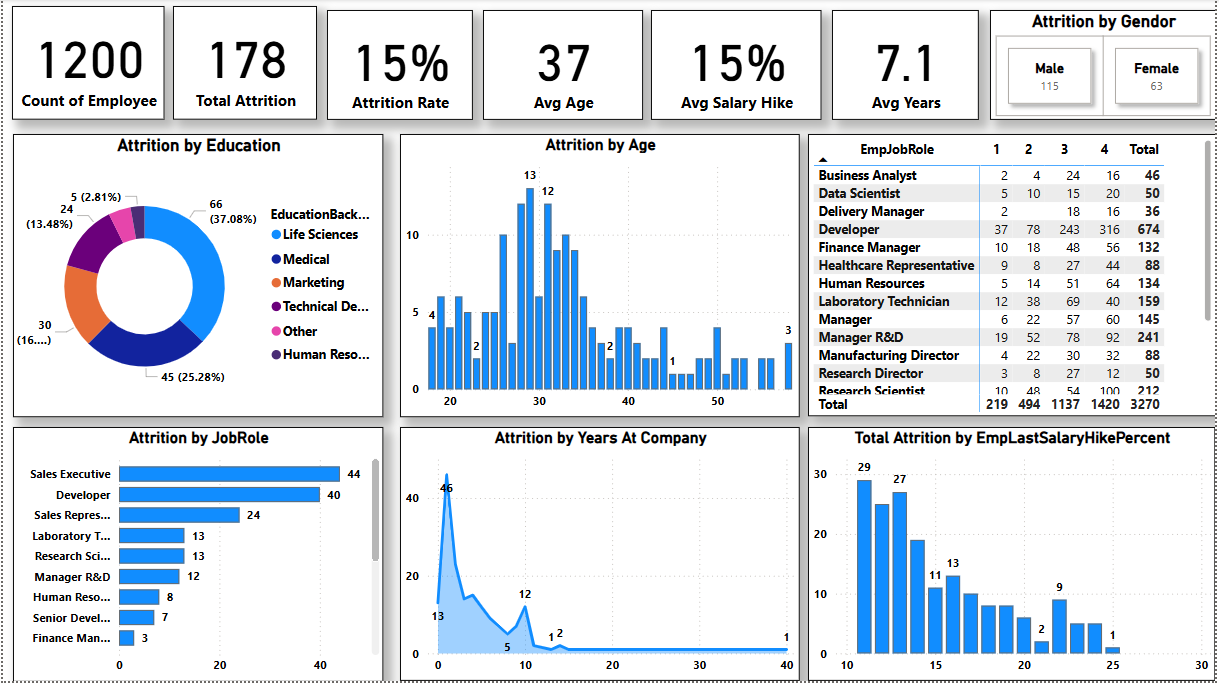

The dashboard page shown, as its layout file describes it:
{"tool":"powerbi","page":{"name":"Attrition Dashboard","canvas":[1280,720],"ordinal":1},"visuals":[{"type":"card","fields":{"Values":["INX_Future_Inc_Employee_Perform.Total no of employee"]},"box":[10,7.5,161.1,119.9],"z":0},{"type":"card","fields":{"Values":["INX_Future_Inc_Employee_Perform.Total Atrrition"]},"box":[179.8,7.5,152.4,119.9],"z":1000},{"type":"card","fields":{"Values":["INX_Future_Inc_Employee_Perform.Attrition Rate"]},"box":[342.2,11.2,153.6,116.1],"z":2000},{"type":"card","fields":{"Values":["INX_Future_Inc_Employee_Perform.Avg Age"]},"box":[507,11.2,168.6,116.1],"z":3000},{"type":"card","fields":{"Values":["INX_Future_Inc_Employee_Perform.Avg Salary Hike"]},"box":[684.3,11.2,179.8,116.1],"z":4000},{"type":"card","fields":{"Values":["Avg(INX_Future_Inc_Employee_Perform.ExperienceYearsAtThisCompany)"]},"box":[875.4,11.2,154.8,116.1],"z":5000},{"type":"advancedSlicerVisual","title":"Attrition by Gendor","fields":{"Values":["INX_Future_Inc_Employee_Perform.Gender"]},"box":[1041.5,11.2,238.5,116.1],"z":6000},{"type":"donutChart","title":"Attrition by Education","fields":{"Y":["INX_Future_Inc_Employee_Perform.Total Atrrition"],"Category":["INX_Future_Inc_Employee_Perform.EducationBackground"]},"box":[10.4,142.8,390.8,298.6],"z":7000},{"type":"columnChart","title":"Attrition by Age","fields":{"Y":["INX_Future_Inc_Employee_Perform.Total Atrrition"],"Category":["INX_Future_Inc_Employee_Perform.Age"]},"box":[419.3,142.8,421.9,298.6],"z":8000},{"type":"pivotTable","fields":{"Rows":["INX_Future_Inc_Employee_Perform.EmpJobRole"],"Values":["Sum(INX_Future_Inc_Employee_Perform.EmpRelationshipSatisfaction)"],"Columns":["INX_Future_Inc_Employee_Perform.EmpRelationshipSatisfaction"]},"box":[849.9,142.4,430.6,298.5],"z":9000},{"type":"barChart","title":"Attrition by JobRole","fields":{"Y":["INX_Future_Inc_Employee_Perform.Total Atrrition"],"Category":["INX_Future_Inc_Employee_Perform.EmpJobRole"]},"box":[10.4,451.8,390.8,268.7],"z":10000},{"type":"areaChart","title":"Attrition by Years At Company","fields":{"Category":["INX_Future_Inc_Employee_Perform.ExperienceYearsAtThisCompany"],"Y":["INX_Future_Inc_Employee_Perform.Total Atrrition"]},"box":[419,452,422,268],"z":11000},{"type":"columnChart","title":"Total Attrition by EmpLastSalaryHikePercent","fields":{"Category":["INX_Future_Inc_Employee_Perform.EmpLastSalaryHikePercent"],"Y":["INX_Future_Inc_Employee_Perform.Total Atrrition"]},"box":[850,452,430,268],"z":12000}]}

Visuals, with their boxes in screenshot pixels (x1, y1, x2, y2), scaled from the page's 1280x720 canvas onto the 1219x688 screenshot:
card - INX_Future_Inc_Employee_Perform.Total no of employee: (x1=10, y1=7, x2=163, y2=122)
card - INX_Future_Inc_Employee_Perform.Total Atrrition: (x1=171, y1=7, x2=316, y2=122)
card - INX_Future_Inc_Employee_Perform.Attrition Rate: (x1=326, y1=11, x2=472, y2=122)
card - INX_Future_Inc_Employee_Perform.Avg Age: (x1=483, y1=11, x2=643, y2=122)
card - INX_Future_Inc_Employee_Perform.Avg Salary Hike: (x1=652, y1=11, x2=823, y2=122)
card - Avg(INX_Future_Inc_Employee_Perform.ExperienceYearsAtThisCompany): (x1=834, y1=11, x2=981, y2=122)
"Attrition by Gendor" advancedSlicerVisual: (x1=992, y1=11, x2=1218, y2=122)
"Attrition by Education" donutChart: (x1=10, y1=136, x2=382, y2=422)
"Attrition by Age" columnChart: (x1=399, y1=136, x2=801, y2=422)
pivotTable - INX_Future_Inc_Employee_Perform.EmpJobRole x Sum(INX_Future_Inc_Employee_Perform.EmpRelationshipSatisfaction): (x1=809, y1=136, x2=1218, y2=421)
"Attrition by JobRole" barChart: (x1=10, y1=432, x2=382, y2=687)
"Attrition by Years At Company" areaChart: (x1=399, y1=432, x2=801, y2=687)
"Total Attrition by EmpLastSalaryHikePercent" columnChart: (x1=809, y1=432, x2=1218, y2=687)
